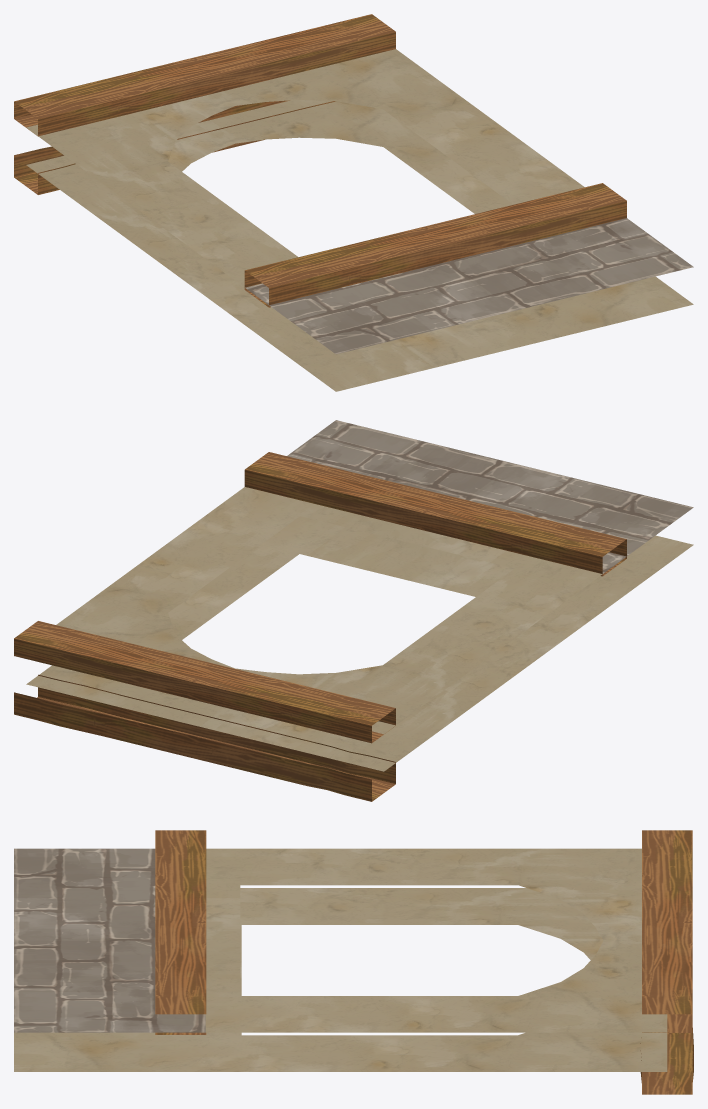
The model's file is Wall_Plaster_Window_Wide_Round.fbx.
The picture shows the model from 3 angles, top to bottom: view 1: azimuth 30°, elevation 25°; view 2: azimuth 150°, elevation 25°; view 3: azimuth 270°, elevation 25°; orthographic projection. The views are drawn at different scales.
Parts seen in each view (by area): view 1: Wall_Plaster_Window_Wide_Round; view 2: Wall_Plaster_Window_Wide_Round; view 3: Wall_Plaster_Window_Wide_Round.
Part boxes in pixels (x1,y1,x2,y2): Wall_Plaster_Window_Wide_Round: (14, 14, 693, 391); Wall_Plaster_Window_Wide_Round: (14, 420, 693, 801); Wall_Plaster_Window_Wide_Round: (14, 830, 693, 1094).
Size of the model in its own units: 2 by 0.4065 by 3.12.
